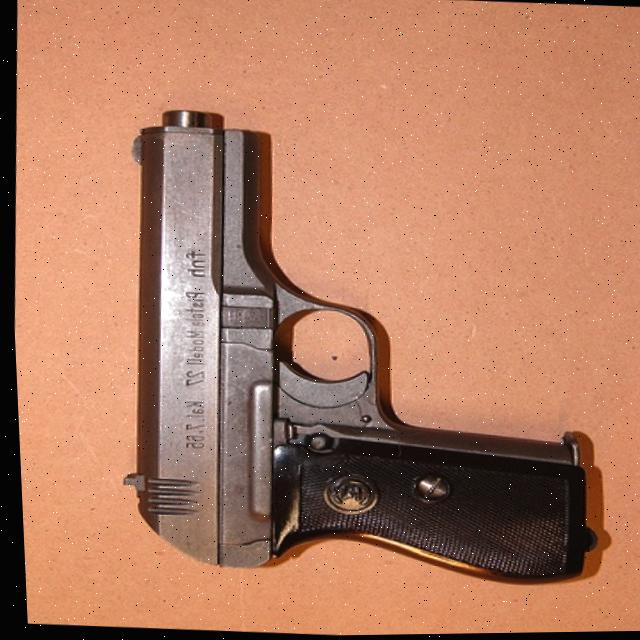pistol: (106, 104, 603, 594)
